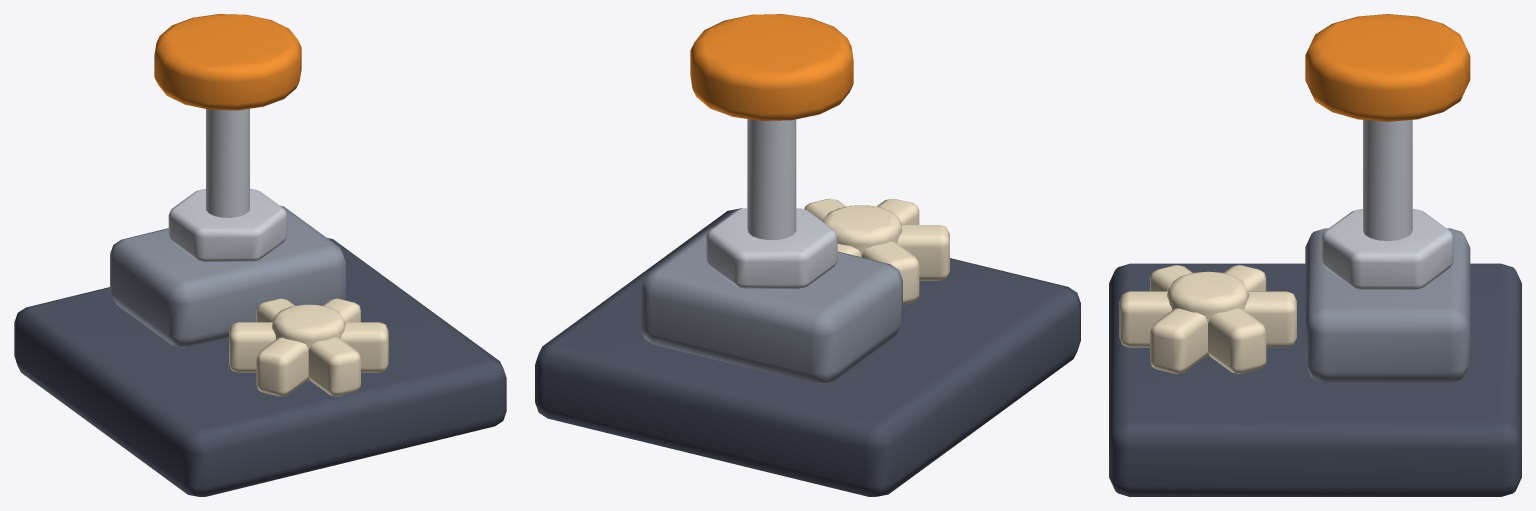
File: Ctrl_Toggle_Lights.fbx
3 renders of one model, left to right at view 1: azimuth 30°, elevation 25°; view 2: azimuth 150°, elevation 25°; view 3: azimuth 270°, elevation 25°, orthographic. The views are drawn at different scales.
Visible parts, largest first — view 1: Ctrl_Toggle_Lights.Base, Ctrl_Toggle_Lights.Housing, Ctrl_Toggle_Lights.Move_Lever, Ctrl_Toggle_Lights.Icon, Ctrl_Toggle_Lights.Nut; view 2: Ctrl_Toggle_Lights.Base, Ctrl_Toggle_Lights.Housing, Ctrl_Toggle_Lights.Move_Lever, Ctrl_Toggle_Lights.Icon, Ctrl_Toggle_Lights.Nut; view 3: Ctrl_Toggle_Lights.Base, Ctrl_Toggle_Lights.Move_Lever, Ctrl_Toggle_Lights.Housing, Ctrl_Toggle_Lights.Icon, Ctrl_Toggle_Lights.Nut.
Boxes of the visible parts, x1,y1,x2,y2 form: Ctrl_Toggle_Lights.Base: (14, 238, 506, 496); Ctrl_Toggle_Lights.Housing: (110, 205, 345, 347); Ctrl_Toggle_Lights.Move_Lever: (154, 14, 301, 217); Ctrl_Toggle_Lights.Icon: (229, 298, 388, 396); Ctrl_Toggle_Lights.Nut: (168, 189, 287, 261); Ctrl_Toggle_Lights.Base: (535, 208, 1080, 496); Ctrl_Toggle_Lights.Housing: (641, 226, 902, 383); Ctrl_Toggle_Lights.Move_Lever: (690, 14, 853, 240); Ctrl_Toggle_Lights.Icon: (804, 198, 949, 304); Ctrl_Toggle_Lights.Nut: (706, 208, 837, 288); Ctrl_Toggle_Lights.Base: (1109, 263, 1521, 496); Ctrl_Toggle_Lights.Move_Lever: (1305, 14, 1470, 240); Ctrl_Toggle_Lights.Housing: (1305, 228, 1470, 382); Ctrl_Toggle_Lights.Icon: (1119, 265, 1296, 373); Ctrl_Toggle_Lights.Nut: (1321, 209, 1453, 289).
Bounding box in the file's own units: 0.2 × 0.2 × 0.2.
1 material, 1 textured.
